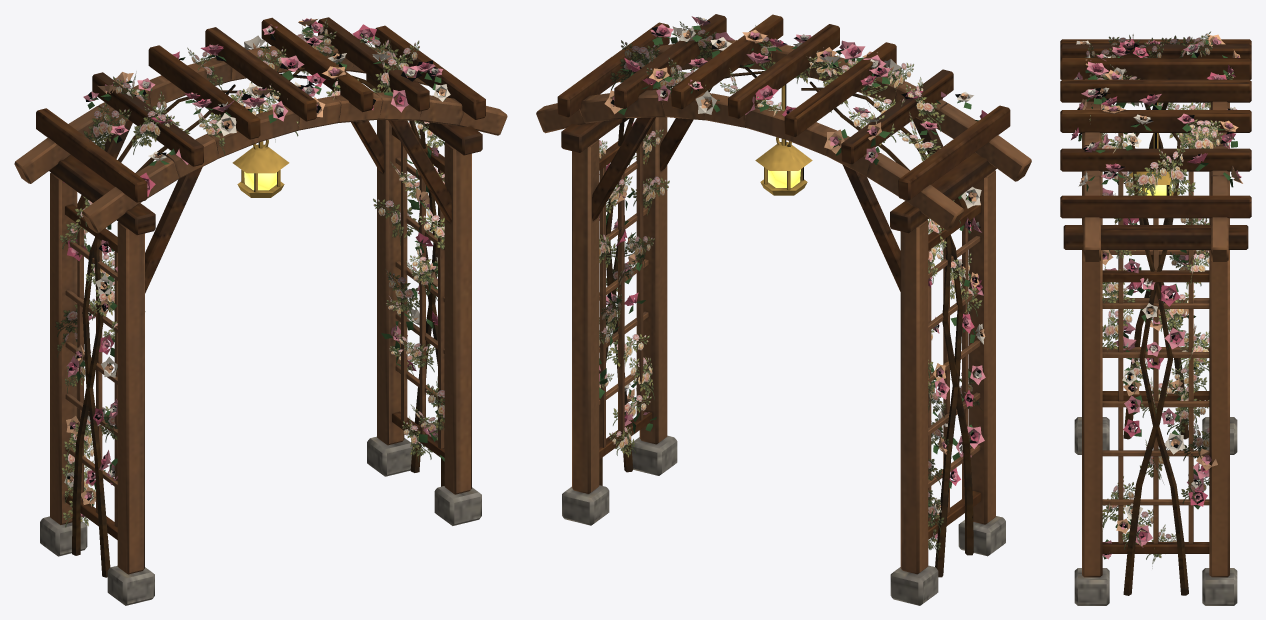
The model's file is prop_rose_trellis.glb.
3 views of the same model, side by side, from view 1: azimuth 30°, elevation 25°; view 2: azimuth 150°, elevation 25°; view 3: azimuth 270°, elevation 25° (orthographic). The views are drawn at different scales.
Parts seen in each view (by area): view 1: RoseTrellis_Struct, RoseTrellis_Leaves; view 2: RoseTrellis_Struct, RoseTrellis_Leaves; view 3: RoseTrellis_Struct, RoseTrellis_Leaves.
Part boxes in pixels (left/top/right/bottom): RoseTrellis_Struct: left=14, top=17, right=507, bottom=605; RoseTrellis_Leaves: left=55, top=19, right=444, bottom=527; RoseTrellis_Struct: left=536, top=14, right=1031, bottom=605; RoseTrellis_Leaves: left=599, top=21, right=982, bottom=558; RoseTrellis_Struct: left=1060, top=34, right=1251, bottom=605; RoseTrellis_Leaves: left=1084, top=31, right=1233, bottom=568.
Size of the model in its own units: 2.87 by 3.07 by 1.2.
4 materials, 3 textured.
